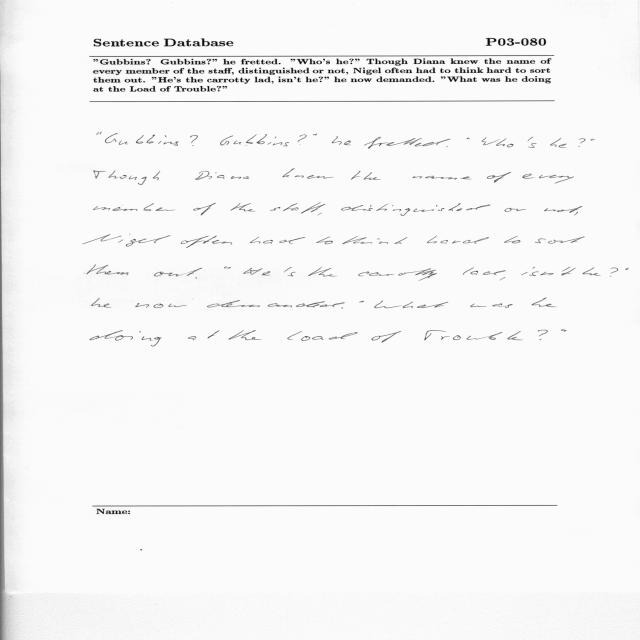word: (341, 203, 491, 216), (105, 133, 198, 146), (90, 330, 162, 346), (83, 234, 170, 247), (207, 300, 345, 308), (364, 137, 451, 149), (358, 268, 437, 281), (94, 170, 160, 185), (425, 330, 503, 341), (287, 331, 358, 341), (220, 134, 277, 146), (94, 203, 176, 211), (270, 203, 326, 214), (181, 236, 232, 248), (375, 301, 449, 309), (282, 169, 334, 179), (522, 174, 574, 184), (342, 236, 407, 244), (427, 236, 489, 244), (196, 171, 250, 180), (196, 266, 231, 279), (500, 267, 535, 280), (154, 268, 202, 277), (87, 265, 129, 275), (529, 267, 575, 276), (507, 330, 548, 340), (273, 135, 307, 147), (250, 237, 305, 244), (550, 138, 585, 148), (535, 237, 585, 244), (372, 331, 401, 343), (463, 267, 506, 275), (229, 330, 262, 340), (583, 267, 619, 276), (482, 138, 514, 148), (188, 331, 219, 341), (540, 329, 567, 340), (193, 203, 216, 215), (351, 171, 381, 180), (544, 206, 582, 213), (308, 267, 337, 276), (135, 303, 187, 308), (487, 172, 511, 182), (413, 176, 472, 180), (532, 298, 557, 307), (470, 303, 513, 308), (230, 203, 256, 211), (92, 298, 111, 308), (300, 134, 317, 145), (332, 137, 351, 146), (243, 268, 263, 275), (316, 237, 333, 245), (504, 236, 520, 243), (527, 137, 537, 148), (284, 267, 295, 276), (505, 208, 526, 212), (262, 272, 271, 276), (96, 132, 102, 135), (574, 212, 578, 216), (318, 213, 322, 216), (359, 301, 364, 303), (591, 139, 595, 141), (625, 268, 629, 270), (341, 307, 343, 309), (467, 138, 470, 139), (192, 145, 194, 146), (446, 146, 448, 147), (578, 146, 580, 147), (610, 276, 611, 276)
